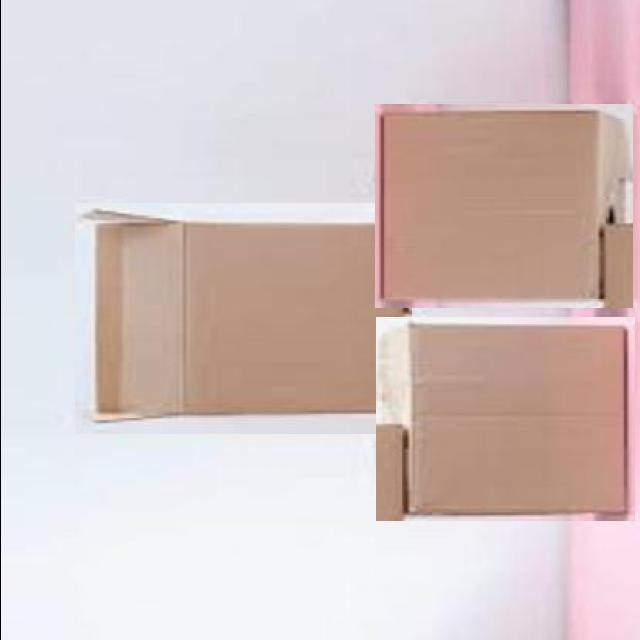defect: (74, 203, 411, 434)
normal: (375, 317, 634, 521), (374, 104, 632, 308)
